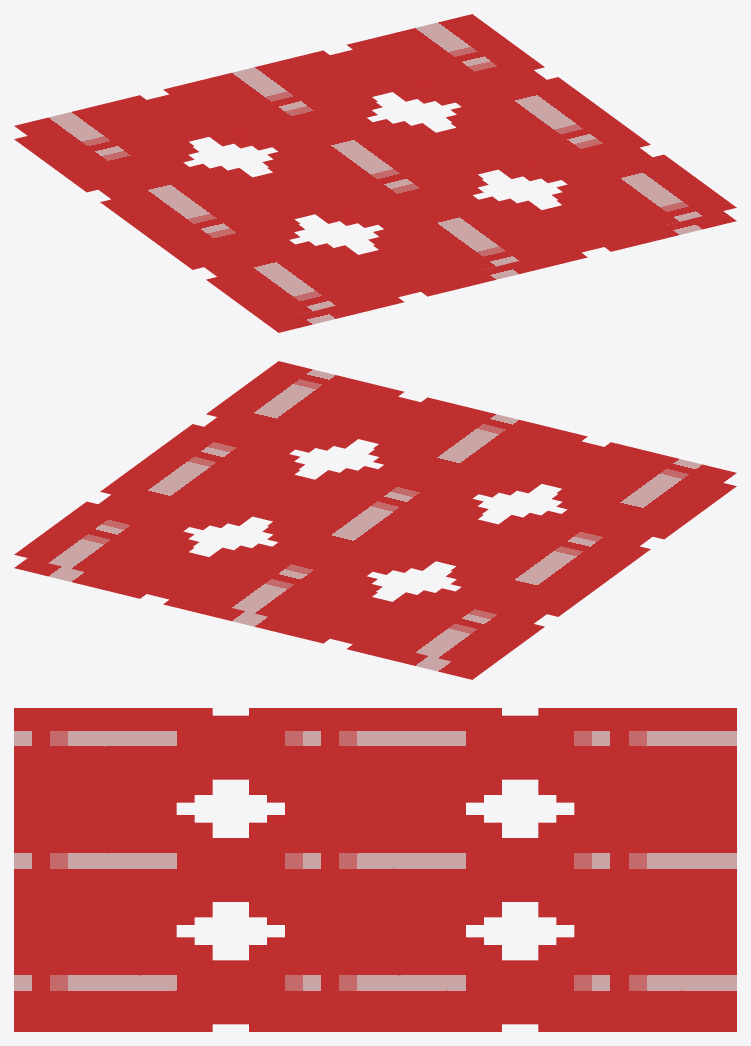
Rendered from collector_error.obj.
3 renders of one model, top to bottom at view 1: azimuth 30°, elevation 25°; view 2: azimuth 150°, elevation 25°; view 3: azimuth 270°, elevation 25°, orthographic. The views are drawn at different scales.
Parts seen in each view (by area): view 1: COLLECTOR_ERROR_Cube.000; view 2: COLLECTOR_ERROR_Cube.000; view 3: COLLECTOR_ERROR_Cube.000.
Boxes of the visible parts, bbox=[...] form: COLLECTOR_ERROR_Cube.000: bbox=[14, 14, 736, 332]; COLLECTOR_ERROR_Cube.000: bbox=[14, 361, 736, 679]; COLLECTOR_ERROR_Cube.000: bbox=[14, 708, 736, 1031].
Size of the model in its own units: 2.25 by 0.0625 by 2.25.
